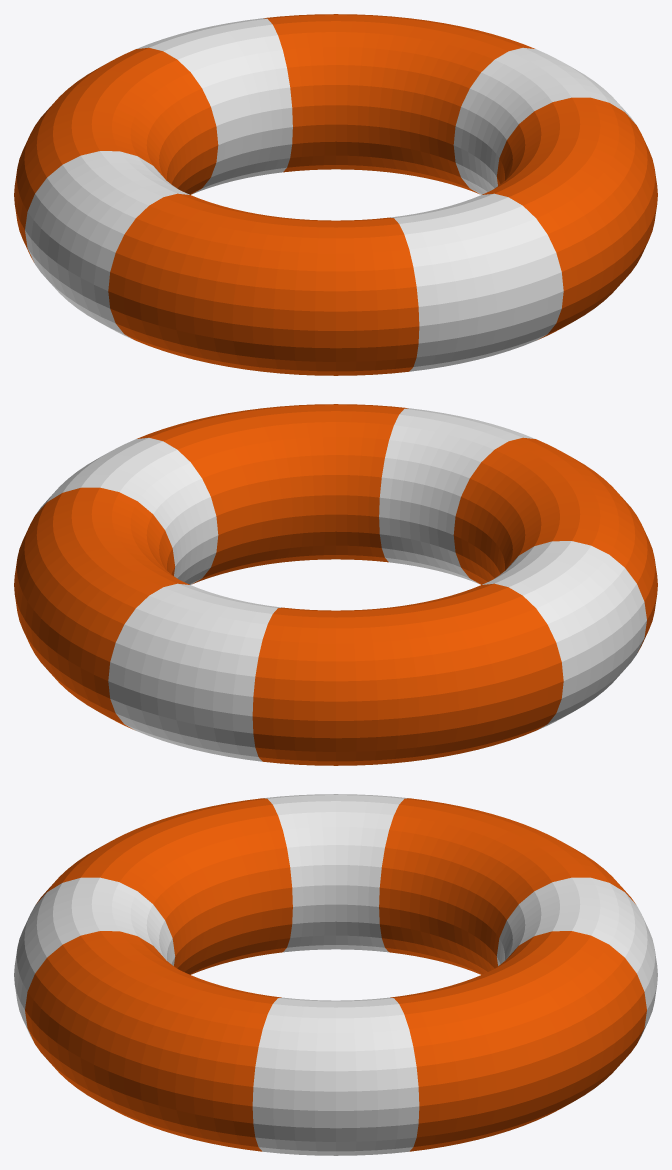
Rendered from Buoy.fbx.
The picture shows the model from 3 angles, top to bottom: view 1: azimuth 30°, elevation 25°; view 2: azimuth 150°, elevation 25°; view 3: azimuth 270°, elevation 25°; orthographic projection.
Visible parts, largest first — view 1: Buoy; view 2: Buoy; view 3: Buoy.
Boxes of the visible parts, box(x1,y1,x2,y2) form: Buoy: box(14, 14, 657, 375); Buoy: box(14, 404, 657, 765); Buoy: box(14, 794, 657, 1155).
Size of the model in its own units: 197 by 47.77 by 197.
